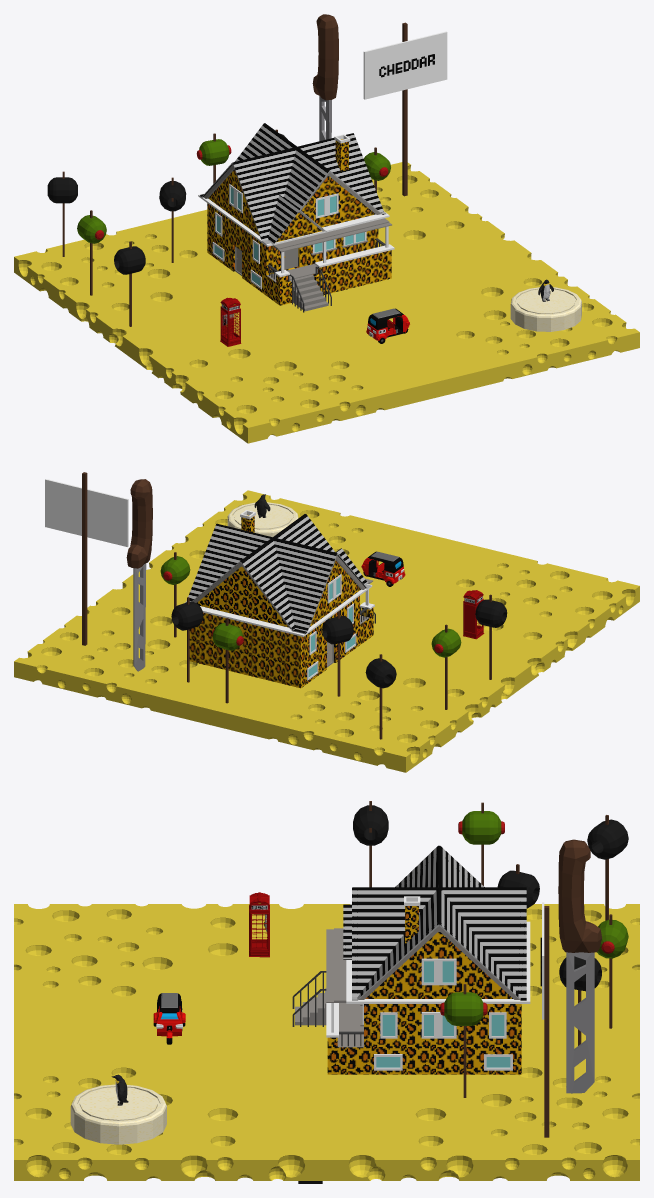
3 renders of one model, top to bottom at view 1: azimuth 30°, elevation 25°; view 2: azimuth 150°, elevation 25°; view 3: azimuth 270°, elevation 25°, orthographic. The views are drawn at different scales.
Parts seen in each view (by area): view 1: Cube.022, Cube.637, Cube.023, Cylinder.016, Cube.024, VEHICLES_TUC_TUC, OBJRANDOM_PHONEBOOTH, Sphere.017, Sphere.016, Sphere.020, Sphere.018, Sphere.022 (+1 smaller); view 2: Cube.022, Cube.637, Cube.023, Cube.024, Cylinder.016, VEHICLES_TUC_TUC, Sphere.020, Sphere.016, Sphere.022, Sphere.017, Sphere.021, Sphere.018 (+2 smaller); view 3: Cube.022, Cube.637, Cube.024, Cylinder.016, Cube.023, Sphere.019, Sphere.016, Sphere.018, Sphere.017, Sphere.022, VEHICLES_TUC_TUC, OBJRANDOM_PHONEBOOTH (+2 smaller).
Part boxes in pixels (bbox=[...]): Cube.022: bbox=[14, 162, 639, 443]; Cube.637: bbox=[198, 123, 394, 312]; Cube.023: bbox=[363, 22, 447, 196]; Cylinder.016: bbox=[510, 287, 581, 331]; Cube.024: bbox=[312, 14, 338, 141]; VEHICLES_TUC_TUC: bbox=[366, 308, 409, 343]; OBJRANDOM_PHONEBOOTH: bbox=[220, 297, 241, 346]; Sphere.017: bbox=[114, 241, 145, 326]; Sphere.016: bbox=[47, 171, 77, 256]; Sphere.020: bbox=[159, 177, 186, 262]; Sphere.018: bbox=[77, 210, 106, 295]; Sphere.022: bbox=[196, 133, 231, 183]; Cube.022: bbox=[14, 490, 639, 772]; Cube.637: bbox=[185, 510, 375, 688]; Cube.023: bbox=[45, 472, 128, 645]; Cube.024: bbox=[126, 479, 152, 671]; Cylinder.016: bbox=[227, 502, 298, 537]; VEHICLES_TUC_TUC: bbox=[361, 551, 405, 586]; Sphere.020: bbox=[322, 611, 353, 696]; Sphere.016: bbox=[365, 654, 396, 739]; Sphere.022: bbox=[212, 618, 243, 703]; Sphere.017: bbox=[475, 594, 507, 679]; Sphere.021: bbox=[171, 597, 203, 682]; Sphere.018: bbox=[431, 624, 461, 709]; Cube.022: bbox=[14, 904, 639, 1180]; Cube.637: bbox=[292, 845, 530, 1074]; Cube.024: bbox=[558, 839, 601, 1093]; Cylinder.016: bbox=[70, 1084, 166, 1144]; Cube.023: bbox=[540, 902, 549, 1137]; Sphere.019: bbox=[440, 984, 487, 1097]; Sphere.016: bbox=[587, 815, 628, 920]; Sphere.018: bbox=[458, 802, 504, 885]; Sphere.017: bbox=[353, 801, 388, 887]; Sphere.022: bbox=[597, 914, 628, 1028]; VEHICLES_TUC_TUC: bbox=[153, 993, 185, 1044]; OBJRANDOM_PHONEBOOTH: bbox=[249, 892, 269, 957].
Size of the model in its own units: 3917 by 2015 by 4000.
42 materials, 4 textured.
